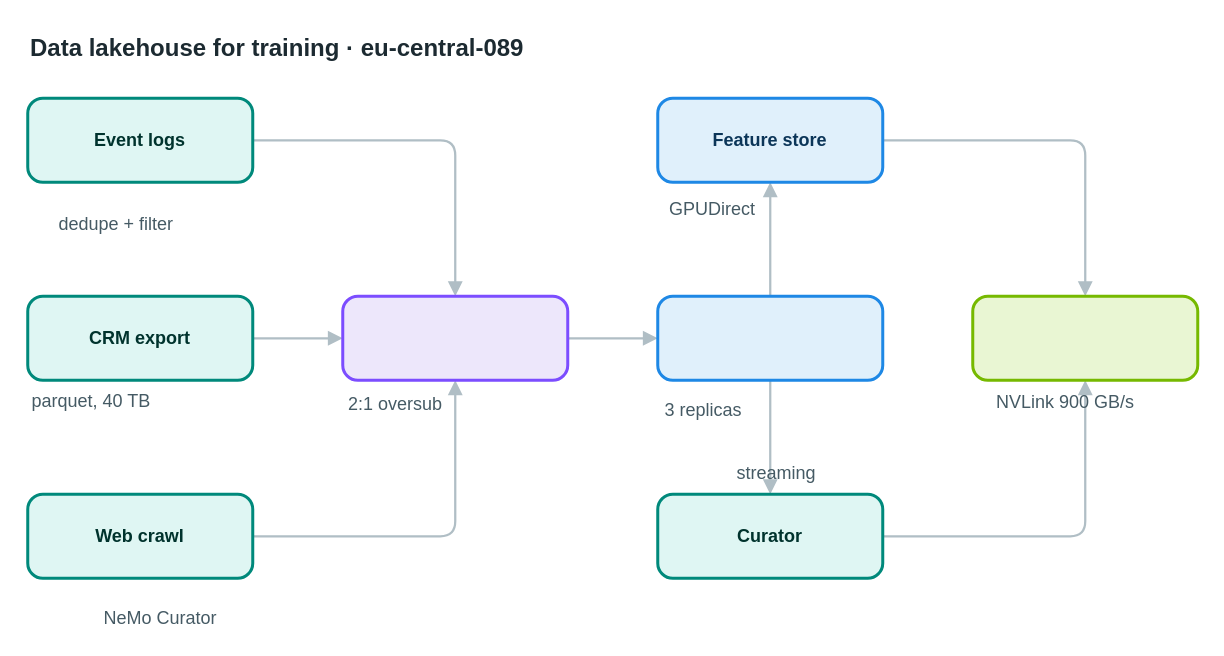
The diagram is 1224 pixels wide and 656 high, and some of its shapes have lost their labels. The shapes that lost their labels are listed below. From the top down, each one's centre as x and y in pixels, then its label:
At (x=454, y=337): "Stream bus".
At (x=770, y=337): "Lakehouse".
At (x=1084, y=337): "Training jobs".
